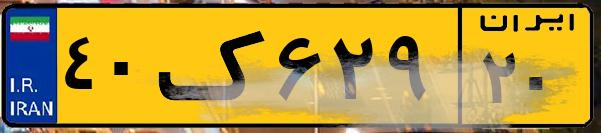0: (525, 38, 570, 115), (110, 28, 158, 98)
2: (330, 28, 385, 110), (475, 38, 525, 113)
4: (57, 26, 110, 100)
6: (270, 28, 330, 110)
9: (385, 28, 445, 110)
ک: (158, 12, 270, 120)
